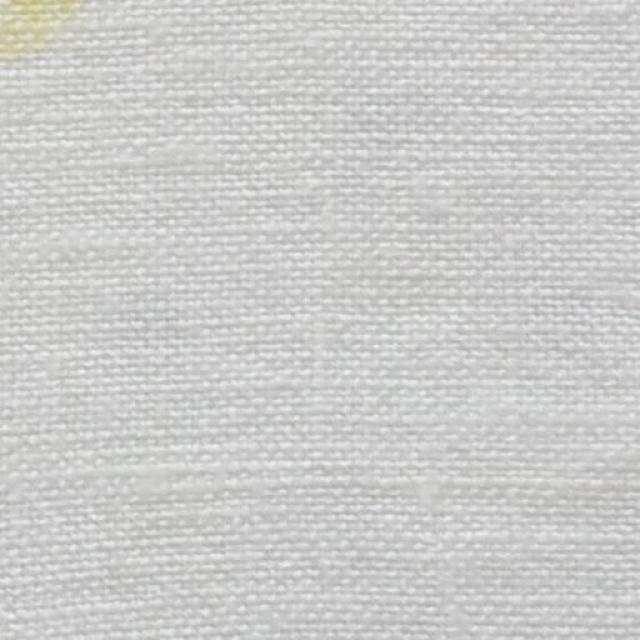Stain: (0, 0, 84, 59)
